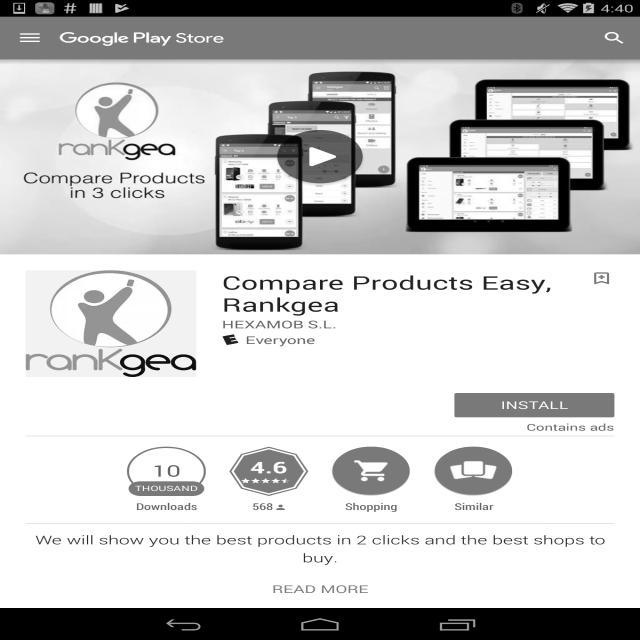Button: (222, 447, 316, 512), (324, 447, 418, 512), (426, 447, 520, 512), (454, 393, 614, 417)
ImageButton: (0, 17, 60, 59)
ImageView: (0, 59, 640, 254), (26, 270, 196, 377), (264, 121, 376, 192), (332, 447, 411, 496), (434, 447, 513, 496), (60, 30, 224, 46), (589, 270, 614, 286), (222, 334, 239, 345), (276, 505, 285, 510)
TextView: (0, 531, 640, 578), (222, 270, 589, 317), (0, 578, 640, 596), (589, 22, 640, 54), (324, 496, 418, 513), (426, 496, 520, 513), (222, 317, 336, 331), (120, 496, 213, 513), (526, 421, 614, 433), (245, 333, 316, 347), (250, 456, 288, 478), (133, 484, 200, 493), (152, 462, 181, 481), (252, 496, 273, 513)
